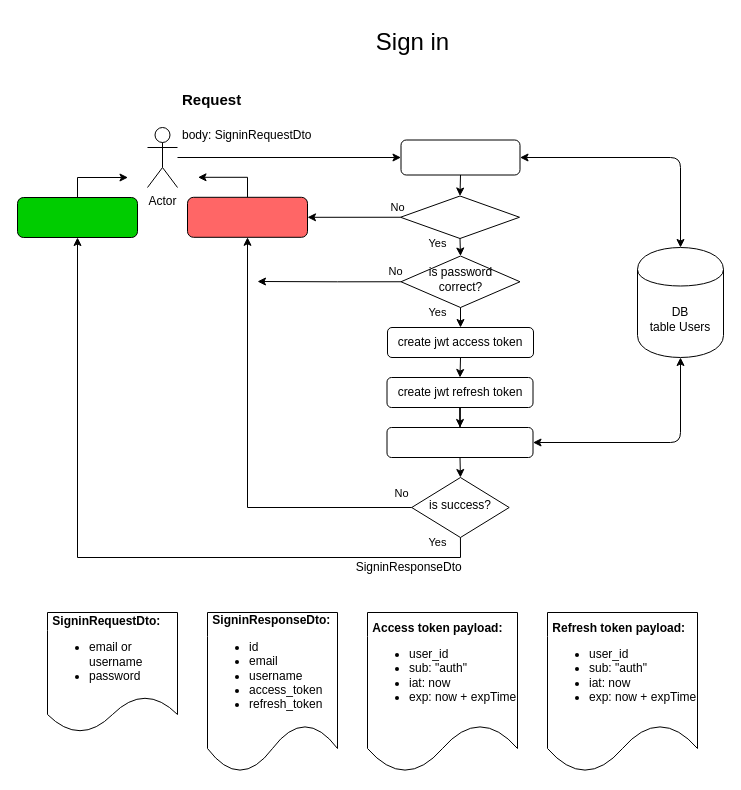
This 741x790 diagram has some shape labels left out. The box of each missing label's shape, as (x1, y1, x2, y2) in pixels:
200 OK: (16, 196, 138, 238)
Exeption: (186, 196, 308, 237)
find user by username or email: (400, 139, 520, 175)
is user found?: (400, 195, 520, 238)
save refresh token to DB: (386, 426, 533, 458)
